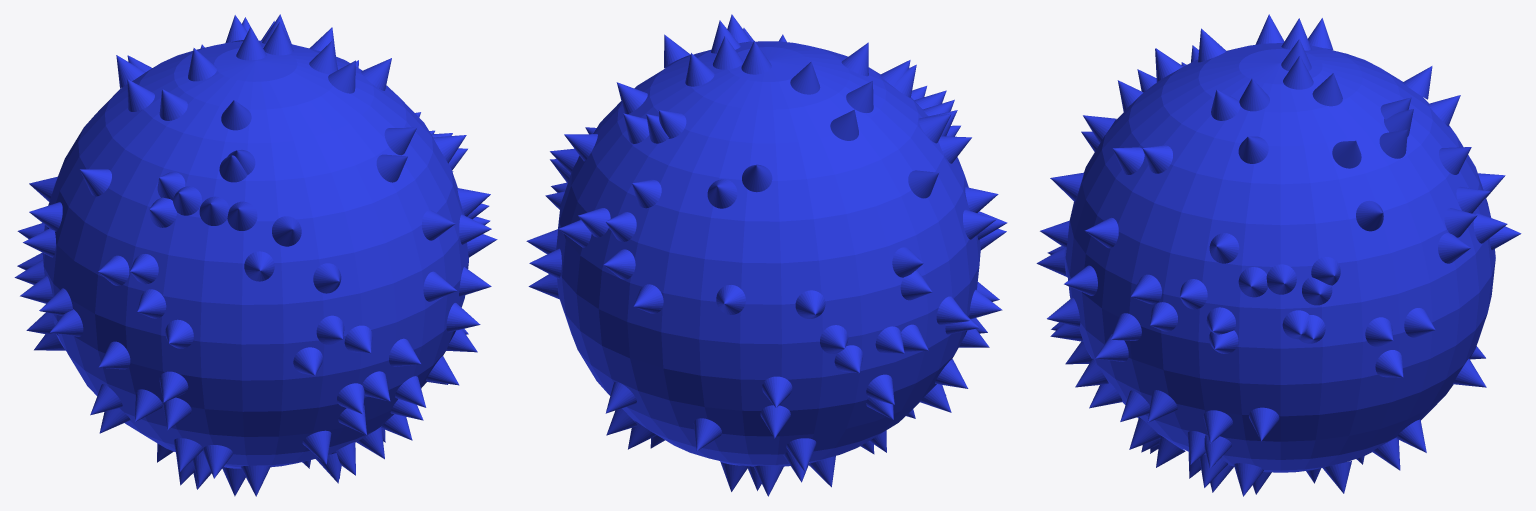
Rendered from spikey-sphere-transformed.glb.
3 renders of one model, left to right at view 1: azimuth 30°, elevation 25°; view 2: azimuth 150°, elevation 25°; view 3: azimuth 270°, elevation 25°, orthographic.
Parts seen in each view (by area): view 1: Cube; view 2: Cube; view 3: Cube.
Boxes of the visible parts, left/top/right/bottom form: Cube: left=14, top=14, right=497, bottom=496; Cube: left=526, top=14, right=1007, bottom=496; Cube: left=1036, top=14, right=1521, bottom=496.
Size of the model in its own units: 3.16 by 3.17 by 3.16.
